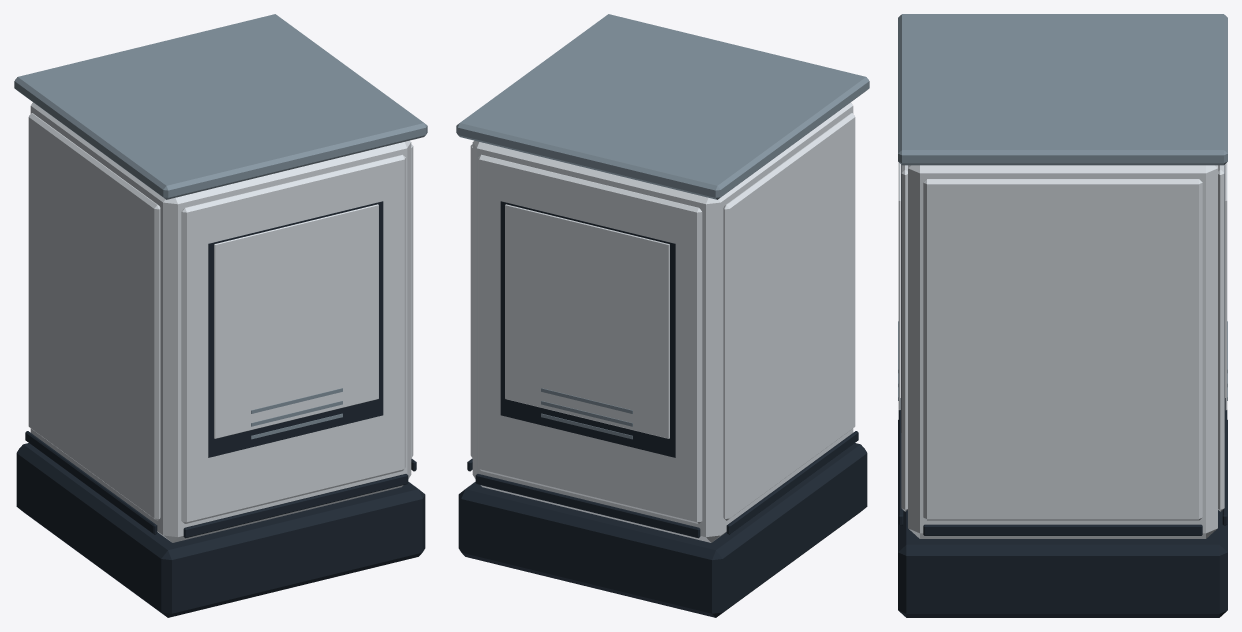
The model's file is WallStraight.fbx.
The picture shows the model from 3 angles, left to right: view 1: azimuth 30°, elevation 25°; view 2: azimuth 150°, elevation 25°; view 3: azimuth 270°, elevation 25°; orthographic projection. The views are drawn at different scales.
Visible parts, largest first — view 1: WallBody, Plinth; view 2: WallBody, Plinth; view 3: WallBody, Plinth.
Boxes of the visible parts, left/top/right/bottom form: WallBody: left=14, top=14, right=427, bottom=542; Plinth: left=16, top=443, right=425, bottom=617; WallBody: left=456, top=14, right=869, bottom=542; Plinth: left=458, top=443, right=867, bottom=617; WallBody: left=898, top=14, right=1227, bottom=538; Plinth: left=898, top=420, right=1227, bottom=617.
Bounding box in the file's own units: 0.98 × 1.54 × 0.98.
